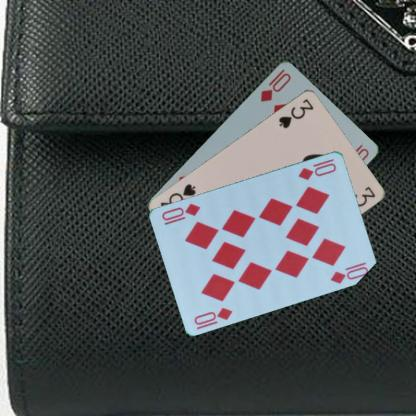10d: (258, 66, 292, 103), (295, 156, 338, 182), (191, 304, 234, 326)
3s: (276, 96, 315, 130)
